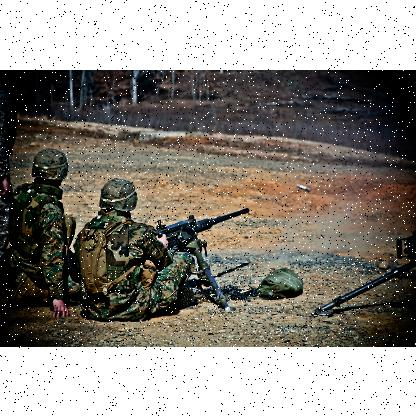gun: (138, 208, 248, 268)
